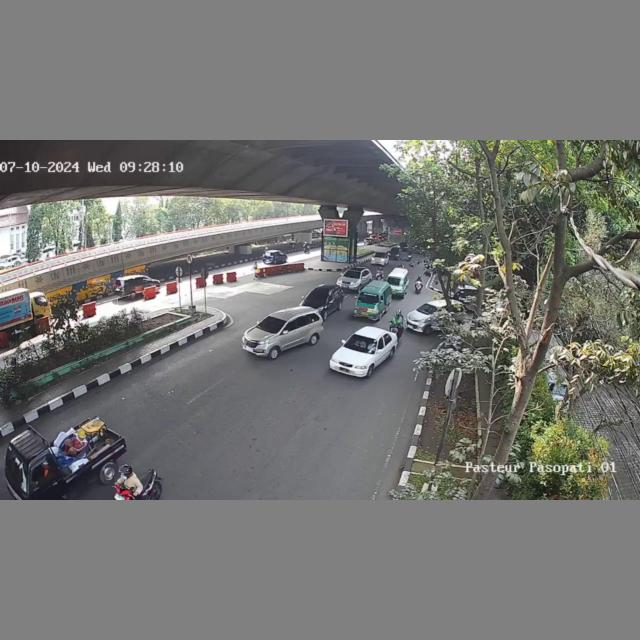windshield: (342, 337, 381, 354), (257, 316, 286, 333), (357, 294, 378, 304), (342, 270, 362, 279), (387, 278, 401, 286)
